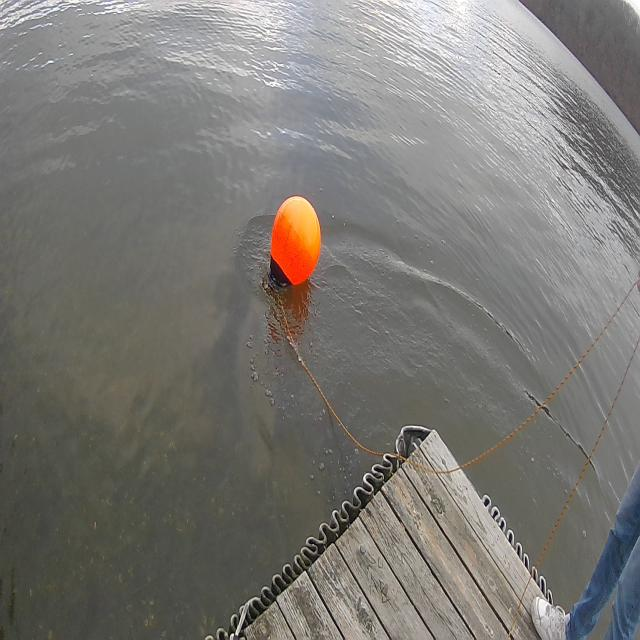Buoy: (258, 187, 329, 309)
